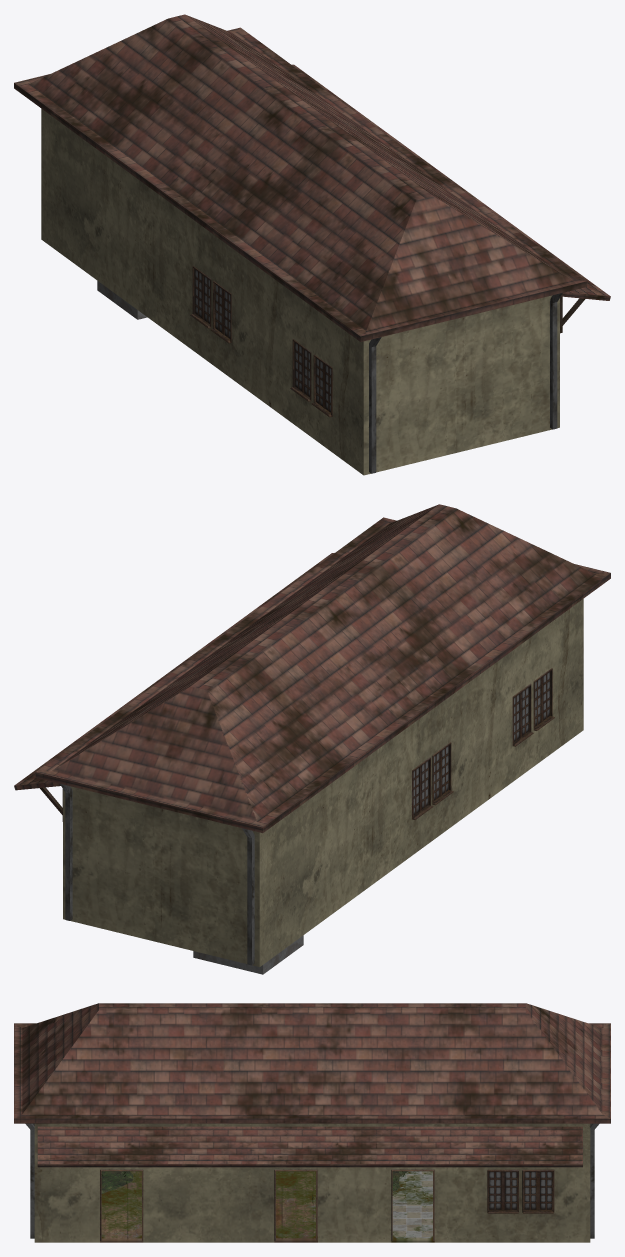
File: Support House.fbx
3 views of the same model, one above another, from view 1: azimuth 30°, elevation 25°; view 2: azimuth 150°, elevation 25°; view 3: azimuth 270°, elevation 25° (orthographic). The views are drawn at different scales.
Visible parts, largest first — view 1: Plane, Casa de Apoio, Cube.004, Cube.013, Parede com porta .003, Plane.001; view 2: Plane, Casa de Apoio, Cube.004, Cube.013, Parede com porta .003, Plane.001; view 3: Plane, Casa de Apoio, Plane.001, Cube.004, Estrutura para porta, Cube.013, Parede com porta .003, Cube.015.
Part boxes in pixels (x1,y1,x2,y2): Plane: (14, 14, 587, 341); Casa de Apoio: (41, 108, 559, 475); Cube.004: (194, 269, 331, 412); Cube.013: (369, 293, 562, 473); Parede com porta .003: (190, 266, 332, 417); Plane.001: (292, 64, 610, 300); Plane: (35, 504, 610, 833); Casa de Apoio: (63, 599, 583, 974); Cube.004: (413, 672, 550, 815); Cube.013: (60, 784, 254, 965); Parede com porta .003: (412, 668, 554, 819); Plane.001: (14, 553, 334, 790); Plane: (14, 1003, 610, 1123); Casa de Apoio: (34, 1123, 590, 1242); Plane.001: (37, 1126, 582, 1167); Cube.004: (489, 1172, 552, 1210); Estrutura para porta: (100, 1169, 434, 1240); Cube.013: (25, 1123, 599, 1238); Parede com porta .003: (487, 1169, 554, 1213); Cube.015: (101, 1171, 133, 1193).
Size of the model in its own units: 674 by 639 by 1532.
